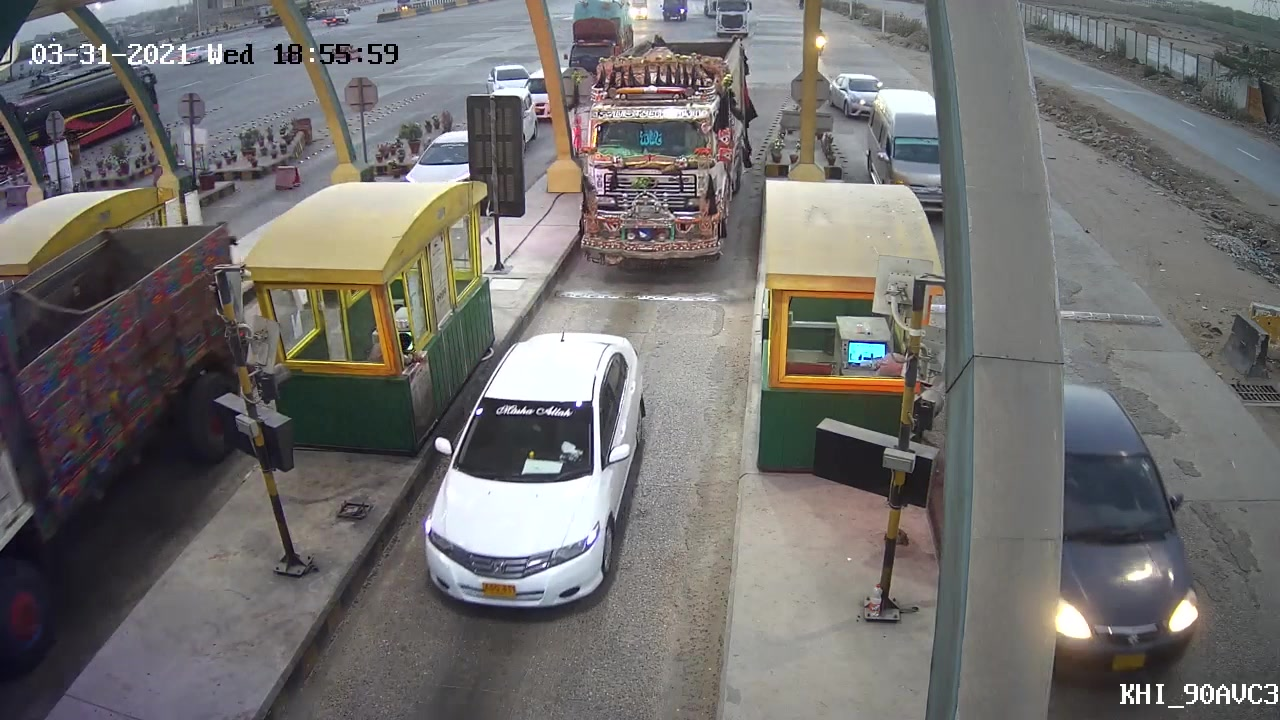F1: (420, 329, 642, 609)
F5: (560, 25, 762, 264)
